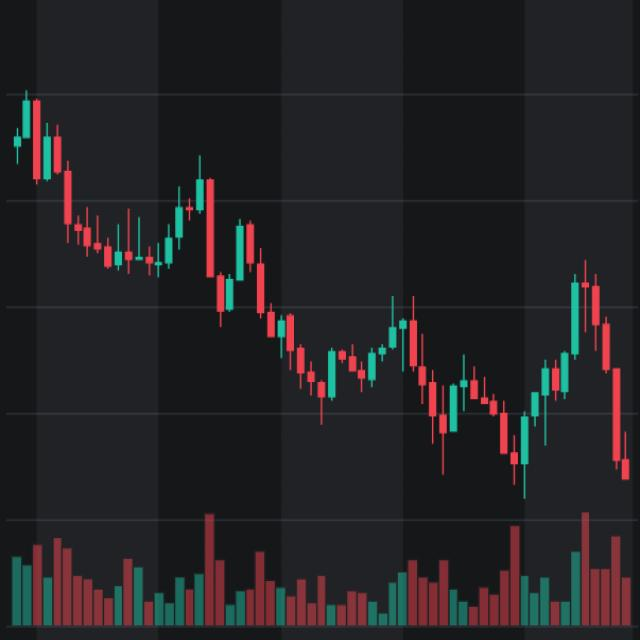Channel-down: (5, 26, 637, 537)
